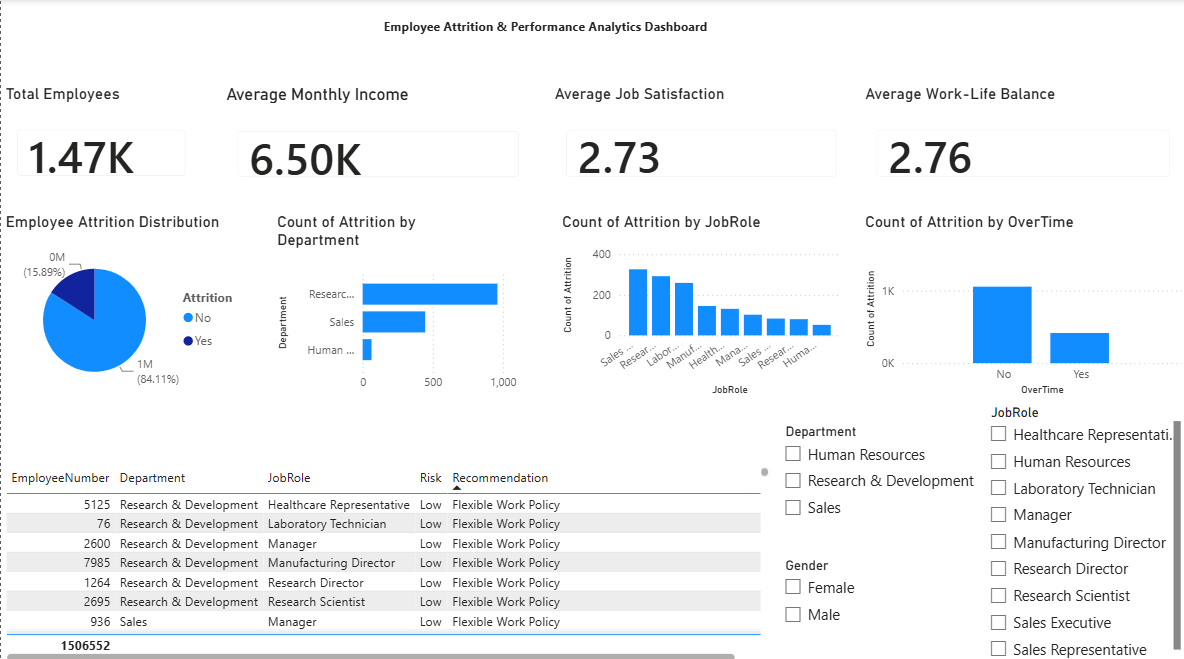

This screenshot's page, from the dashboard's own definition file:
{"tool":"powerbi","page":{"name":"Page 1","canvas":[1280,720],"ordinal":0},"visuals":[{"type":"cardVisual","title":"Total Employees","fields":{"Data":["CountNonNull(employee_recommendations.Age)"]},"box":[0,92.3,217,116.6],"z":0},{"type":"cardVisual","title":"Average Monthly Income","fields":{"Data":["Avg(employee_recommendations.MonthlyIncome)"]},"box":[238.1,92.6,338.3,117.2],"z":1000},{"type":"cardVisual","title":"Average Work-Life Balance","fields":{"Data":["Avg(employee_recommendations.WorkLifeBalance)"]},"box":[927.9,92.6,351.5,117.2],"z":2000},{"type":"cardVisual","title":"Average Job Satisfaction","fields":{"Data":["Avg(employee_recommendations.JobSatisfaction)"]},"box":[593.4,92.6,326.9,117.2],"z":3000},{"type":"pieChart","title":"Employee Attrition Distribution           ","fields":{"Category":["employee_recommendations.Attrition"],"Y":["Sum(employee_recommendations.EmployeeNumber)"]},"box":[0,230.6,272.1,202.2],"z":4000},{"type":"clusteredBarChart","fields":{"Category":["employee_recommendations.Department"],"Y":["CountNonNull(employee_recommendations.Attrition)"]},"box":[292.9,230.6,268.3,202.2],"z":5000},{"type":"clusteredColumnChart","fields":{"Category":["employee_recommendations.JobRole"],"Y":["CountNonNull(employee_recommendations.Attrition)"]},"box":[600.9,230.6,309.9,202.2],"z":6000},{"type":"clusteredColumnChart","fields":{"Category":["employee_recommendations.OverTime"],"Y":["CountNonNull(employee_recommendations.Attrition)"]},"box":[927.9,230.6,351.5,202.2],"z":7000},{"type":"tableEx","fields":{"Values":["Sum(employee_recommendations.EmployeeNumber)","employee_recommendations.Department","employee_recommendations.JobRole","employee_recommendations.Risk","employee_recommendations.Recommendation"]},"box":[0,500.3,833.9,220.2],"z":8000},{"type":"slicer","fields":{"Values":["employee_recommendations.Department"]},"box":[833.4,453.5,223,122.8],"z":9000},{"type":"slicer","fields":{"Values":["employee_recommendations.JobRole"]},"box":[1056.4,432.8,223,287.2],"z":10000},{"type":"slicer","fields":{"Values":["employee_recommendations.Gender"]},"box":[833.4,597.2,223,122.8],"z":11000},{"type":"textbox","box":[408.2,15.1,366.6,54.8],"z":12000}]}

Visuals, with their boxes in screenshot pixels (x1, y1, x2, y2), scaled from the page's 1280x720 canvas onto the 1184x659 screenshot:
"Total Employees" cardVisual: [x1=0, y1=84, x2=201, y2=191]
"Average Monthly Income" cardVisual: [x1=220, y1=85, x2=533, y2=192]
"Average Work-Life Balance" cardVisual: [x1=858, y1=85, x2=1183, y2=192]
"Average Job Satisfaction" cardVisual: [x1=549, y1=85, x2=851, y2=192]
"Employee Attrition Distribution           " pieChart: [x1=0, y1=211, x2=252, y2=396]
clusteredBarChart - employee_recommendations.Department x CountNonNull(employee_recommendations.Attrition): [x1=271, y1=211, x2=519, y2=396]
clusteredColumnChart - employee_recommendations.JobRole x CountNonNull(employee_recommendations.Attrition): [x1=556, y1=211, x2=842, y2=396]
clusteredColumnChart - employee_recommendations.OverTime x CountNonNull(employee_recommendations.Attrition): [x1=858, y1=211, x2=1183, y2=396]
tableEx - Sum(employee_recommendations.EmployeeNumber) x employee_recommendations.Department: [x1=0, y1=458, x2=771, y2=658]
slicer - employee_recommendations.Department: [x1=771, y1=415, x2=977, y2=527]
slicer - employee_recommendations.JobRole: [x1=977, y1=396, x2=1183, y2=658]
slicer - employee_recommendations.Gender: [x1=771, y1=547, x2=977, y2=658]
textbox: [x1=378, y1=14, x2=717, y2=64]
